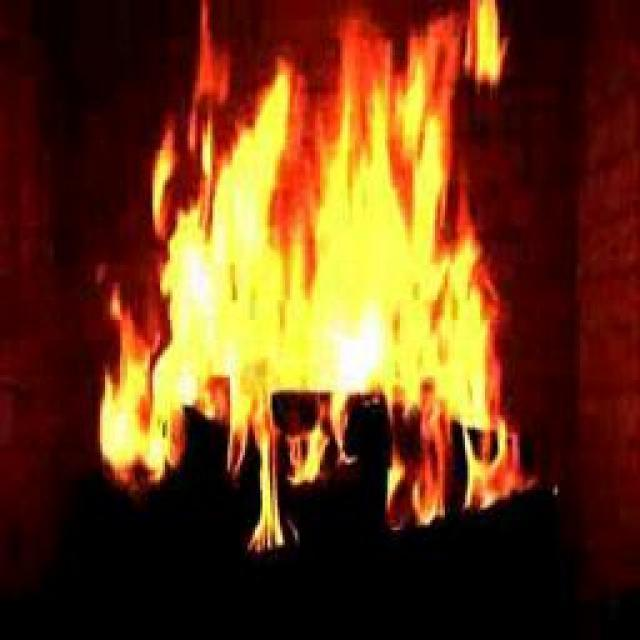Fire: (115, 50, 502, 461)
